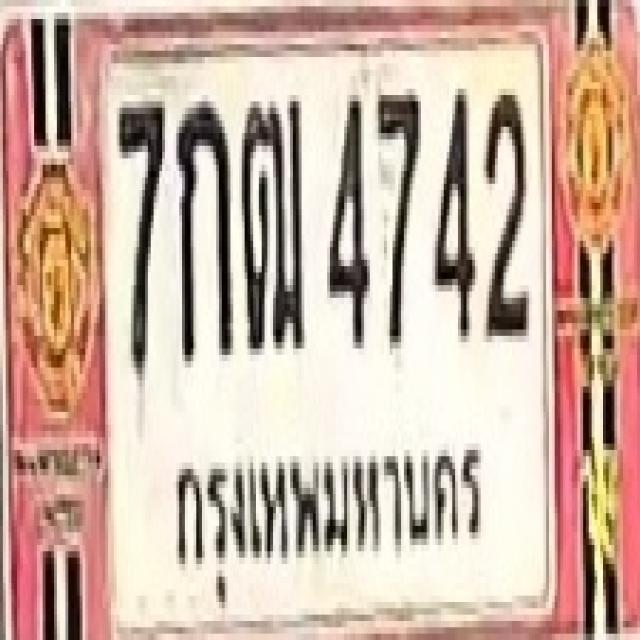2: (482, 89, 528, 336)
4: (431, 82, 474, 336), (324, 89, 367, 342)
7: (117, 95, 162, 368), (376, 89, 418, 342)
A01: (173, 95, 230, 355)
A18: (239, 92, 301, 352)
BKK: (165, 426, 496, 605)
